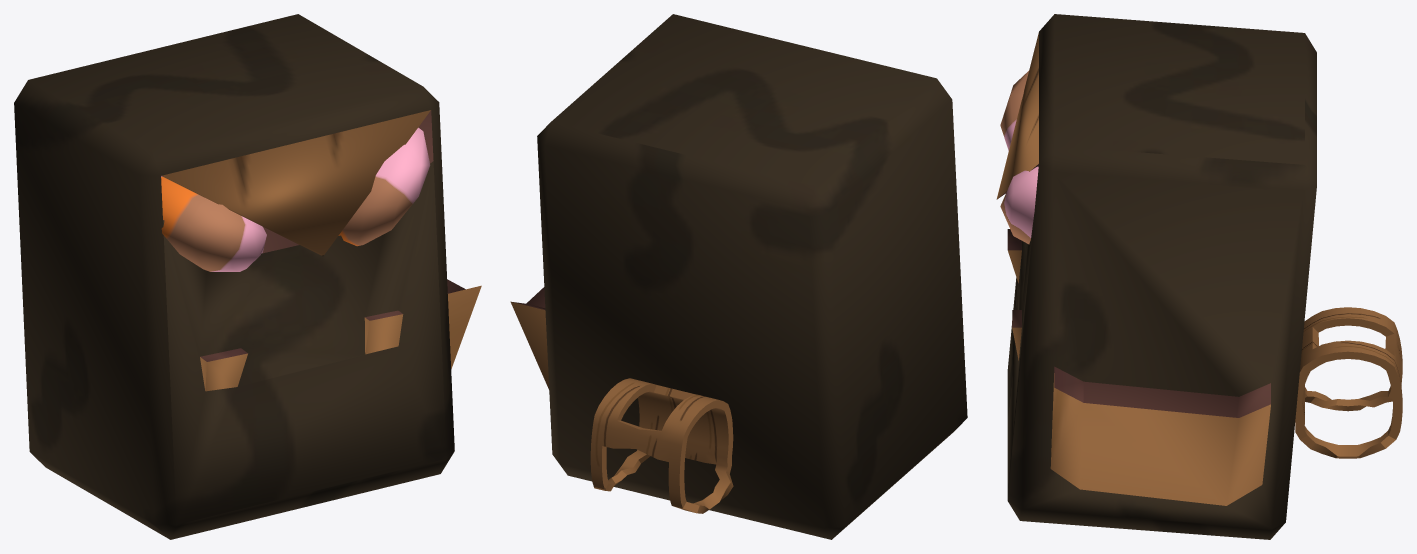
File: item-bagpack.glb
3 renders of one model, left to right at view 1: azimuth 30°, elevation 25°; view 2: azimuth 150°, elevation 25°; view 3: azimuth 270°, elevation 25°, orthographic. The views are drawn at different scales.
Size of the model in its own units: 2.76 by 3.02 by 2.82.
Materials: 4 (4 with a texture image).
